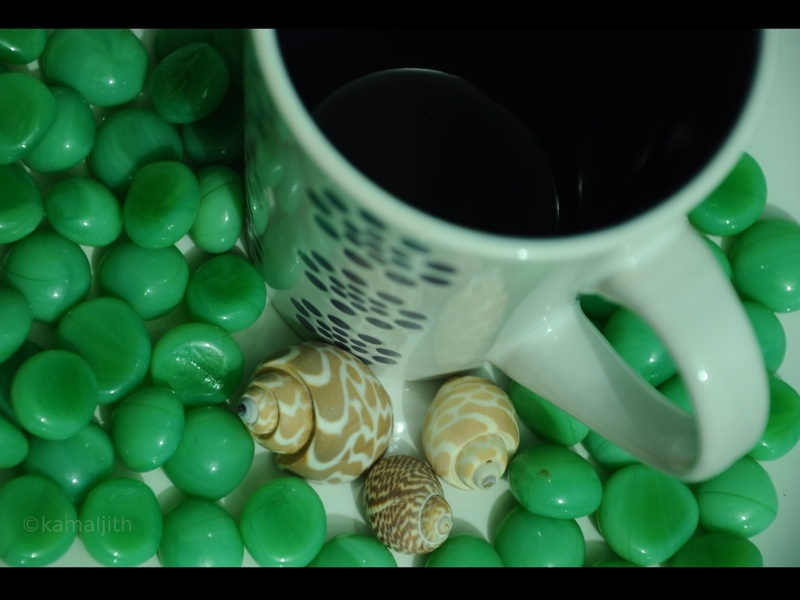cup: (231, 27, 793, 484)
